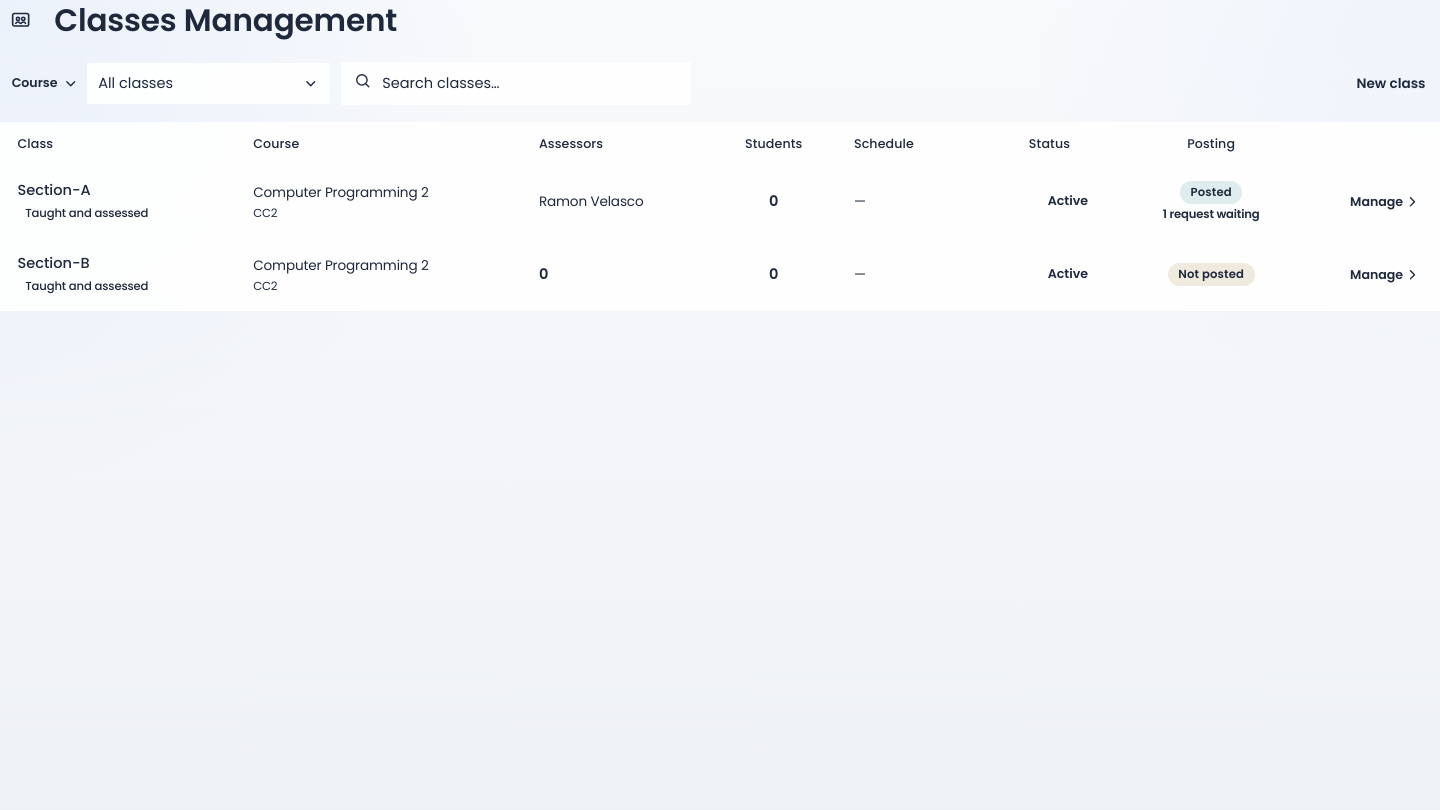
Test: Posting › asks before unposting, and keeps the waiting requests
Click the button "Section-A". click: (54, 190)
box: [18, 180, 91, 201]
(page scrolled)
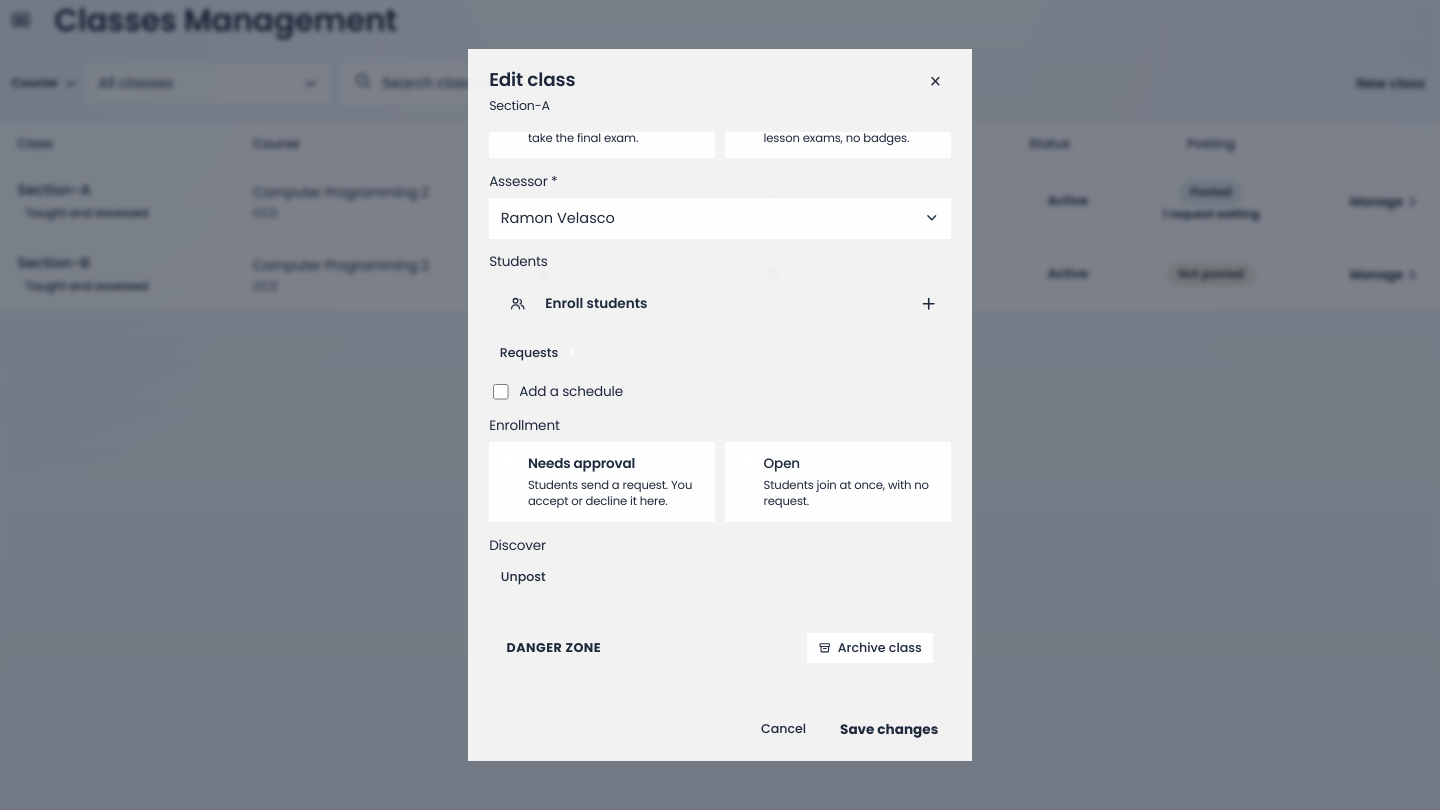
Click the button "Unpost". click: (523, 577)
box: [489, 561, 557, 592]
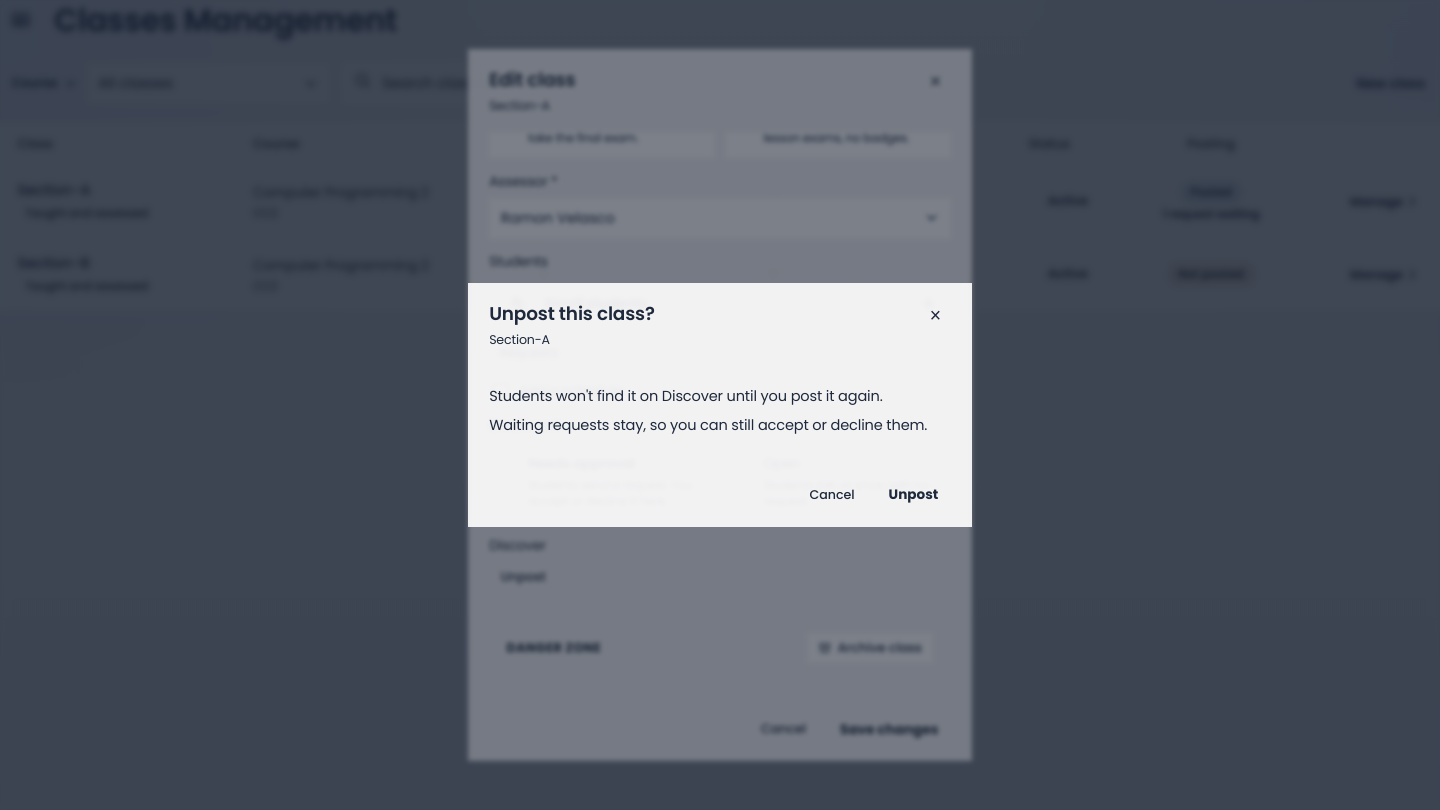
Now the text "Waiting requests stay, so you can still accept or decline them." is shown, box [489, 415, 951, 436]
Click the button "Cancel". click: (832, 495)
box: [798, 478, 866, 512]
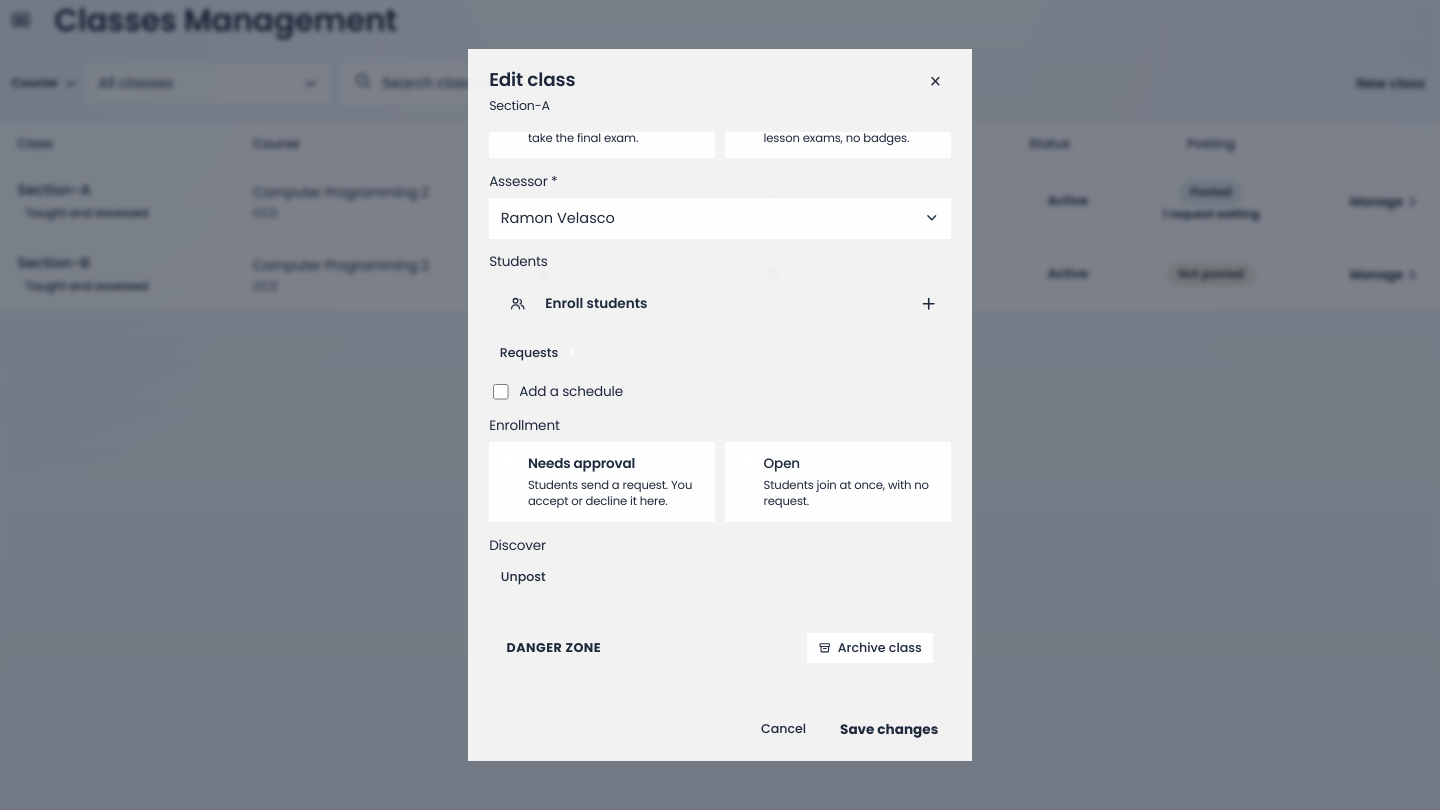
Now the heading "Unpost this class?" is gone
Click the button "Unpost". click: (523, 577)
box: [489, 561, 557, 592]
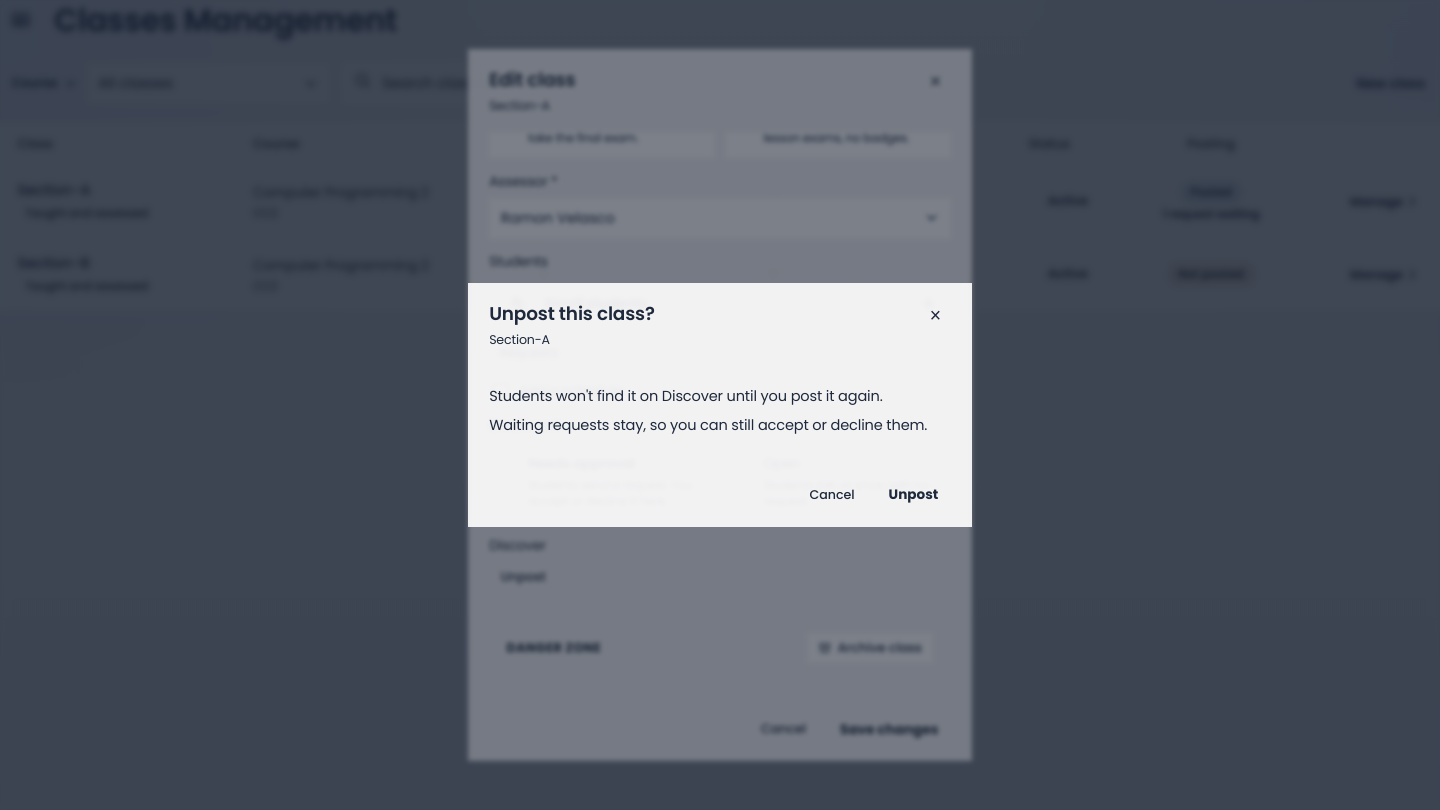
Click the button "Unpost". click: (913, 495)
box: [876, 478, 951, 512]
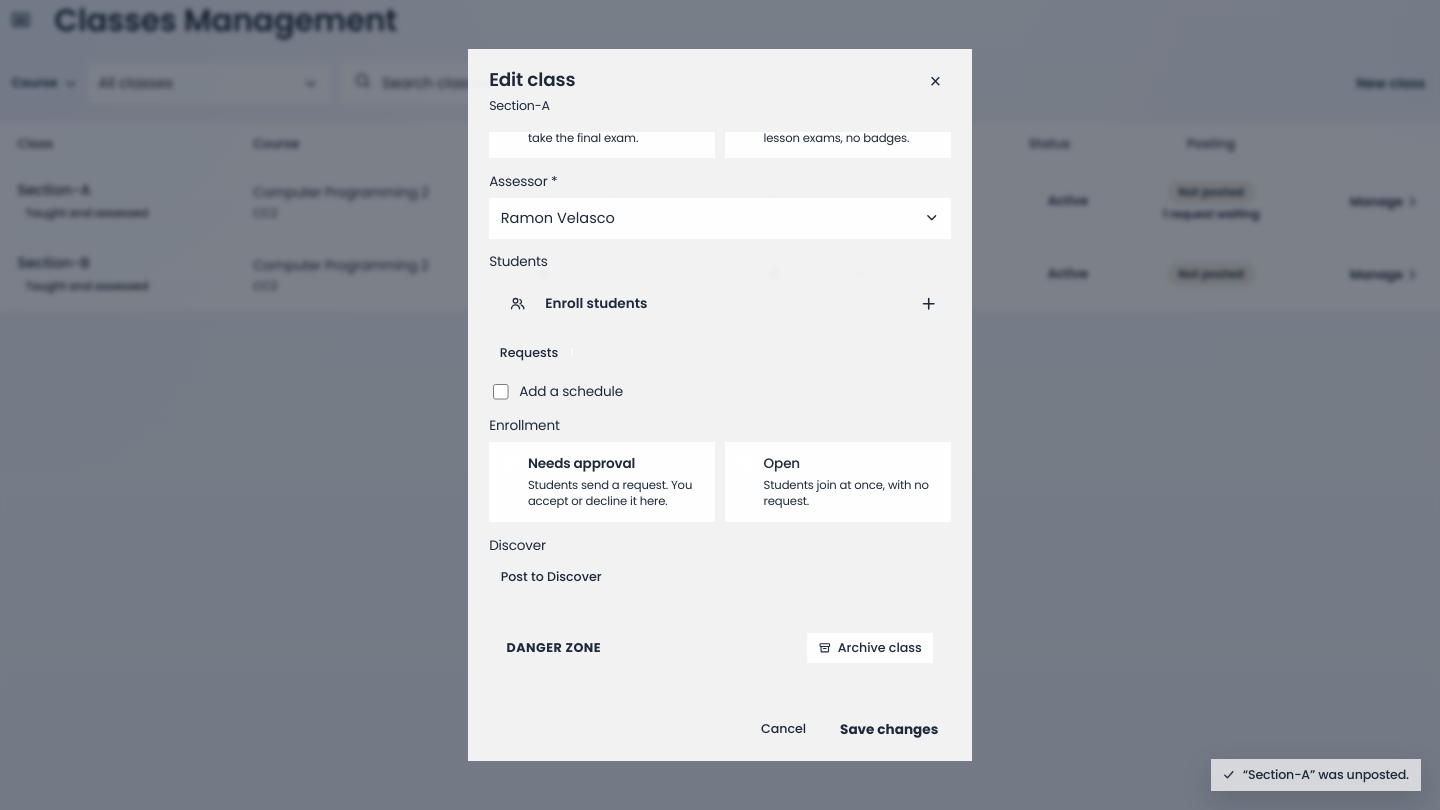
Now the button with aria-label "Requests, 1 waiting" is shown, box [489, 338, 591, 368]
Now the heading "Unpost this class?" is gone
Now the button "Post to Discover" is shown, box [489, 561, 613, 592]
